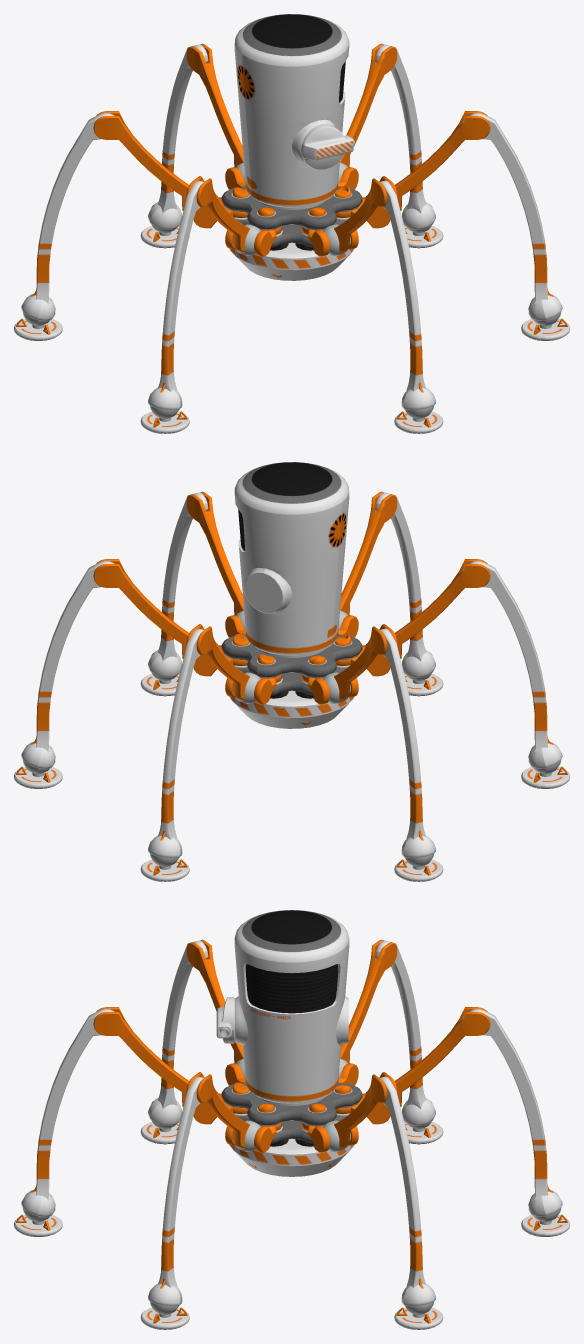
The model's file is SpiderSentry.glb.
3 renders of one model, top to bottom at view 1: azimuth 30°, elevation 25°; view 2: azimuth 150°, elevation 25°; view 3: azimuth 270°, elevation 25°, orthographic.
Parts seen in each view (by area): view 1: MSH_Body_LO, MSH_Arm.001_LO, MSH_Arm.001_LO.003, MSH_Arm.001_LO.001, MSH_Arm.001_LO.002, MSH_Arm.001_LO.004, MSH_Arm.001_LO.005, MSH_Forearm_LO, MSH_Forearm_LO.003, MSH_Forearm_LO.004, MSH_Turret_LO, MSH_Forearm_LO.005 (+12 smaller); view 2: MSH_Body_LO, MSH_Arm.001_LO.002, MSH_Arm.001_LO.005, MSH_Arm.001_LO.003, MSH_Arm.001_LO.004, MSH_Arm.001_LO, MSH_Arm.001_LO.001, MSH_Forearm_LO.002, MSH_Forearm_LO.005, MSH_Forearm_LO, MSH_Forearm_LO.001, MSH_Forearm_LO.003 (+11 smaller); view 3: MSH_Body_LO, MSH_Arm.001_LO.001, MSH_Arm.001_LO.004, MSH_Arm.001_LO.005, MSH_Arm.001_LO, MSH_Arm.001_LO.002, MSH_Arm.001_LO.003, MSH_Forearm_LO.001, MSH_Forearm_LO.004, MSH_Forearm_LO.003, MSH_Forearm_LO, MSH_Forearm_LO.005 (+12 smaller).
Part boxes in pixels (x1=…): MSH_Body_LO: x1=221, y1=14, x2=362, y2=280; MSH_Arm.001_LO: x1=469, y1=112, x2=562, y2=320; MSH_Arm.001_LO.003: x1=21, y1=112, x2=114, y2=320; MSH_Arm.001_LO.001: x1=380, y1=180, x2=435, y2=410; MSH_Arm.001_LO.002: x1=148, y1=180, x2=203, y2=410; MSH_Arm.001_LO.004: x1=148, y1=44, x2=208, y2=229; MSH_Arm.001_LO.005: x1=375, y1=44, x2=435, y2=229; MSH_Forearm_LO: x1=394, y1=111, x2=490, y2=210; MSH_Forearm_LO.003: x1=93, y1=111, x2=189, y2=210; MSH_Forearm_LO.004: x1=186, y1=43, x2=245, y2=181; MSH_Turret_LO: x1=301, y1=123, x2=354, y2=169; MSH_Forearm_LO.005: x1=338, y1=43, x2=397, y2=181; MSH_Body_LO: x1=221, y1=462, x2=362, y2=728; MSH_Arm.001_LO.002: x1=469, y1=560, x2=562, y2=768; MSH_Arm.001_LO.005: x1=21, y1=560, x2=114, y2=768; MSH_Arm.001_LO.003: x1=380, y1=628, x2=435, y2=858; MSH_Arm.001_LO.004: x1=148, y1=628, x2=203, y2=858; MSH_Arm.001_LO: x1=148, y1=492, x2=208, y2=677; MSH_Arm.001_LO.001: x1=375, y1=492, x2=435, y2=677; MSH_Forearm_LO.002: x1=394, y1=559, x2=490, y2=658; MSH_Forearm_LO.005: x1=93, y1=559, x2=189, y2=658; MSH_Forearm_LO: x1=186, y1=491, x2=245, y2=629; MSH_Forearm_LO.001: x1=338, y1=491, x2=397, y2=629; MSH_Forearm_LO.003: x1=323, y1=624, x2=397, y2=703; MSH_Body_LO: x1=221, y1=910, x2=362, y2=1176; MSH_Arm.001_LO.001: x1=21, y1=1008, x2=114, y2=1216; MSH_Arm.001_LO.004: x1=469, y1=1008, x2=562, y2=1216; MSH_Arm.001_LO.005: x1=380, y1=1076, x2=435, y2=1306; MSH_Arm.001_LO: x1=148, y1=1076, x2=203, y2=1306; MSH_Arm.001_LO.002: x1=148, y1=940, x2=208, y2=1125; MSH_Arm.001_LO.003: x1=375, y1=940, x2=435, y2=1125; MSH_Forearm_LO.001: x1=93, y1=1007, x2=189, y2=1106; MSH_Forearm_LO.004: x1=394, y1=1007, x2=490, y2=1106; MSH_Forearm_LO.003: x1=338, y1=939, x2=397, y2=1077; MSH_Forearm_LO: x1=186, y1=1072, x2=260, y2=1152; MSH_Forearm_LO.005: x1=323, y1=1072, x2=397, y2=1152.
Size of the model in its own units: 0.5851 by 0.4026 by 0.6666.
Materials: 1 (1 with a texture image).
